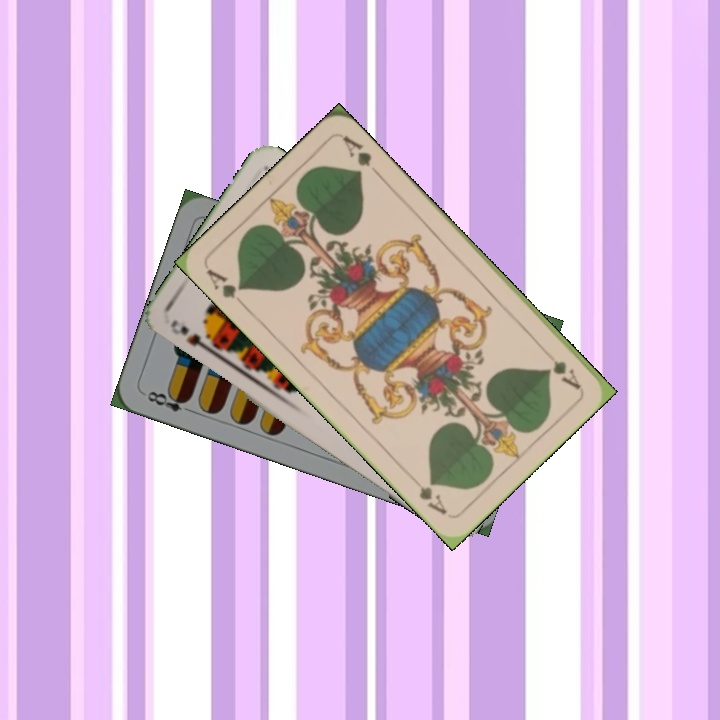E8: (143, 387, 197, 416)
GA: (202, 264, 249, 311), (538, 344, 583, 392)
S9: (176, 321, 220, 357)
